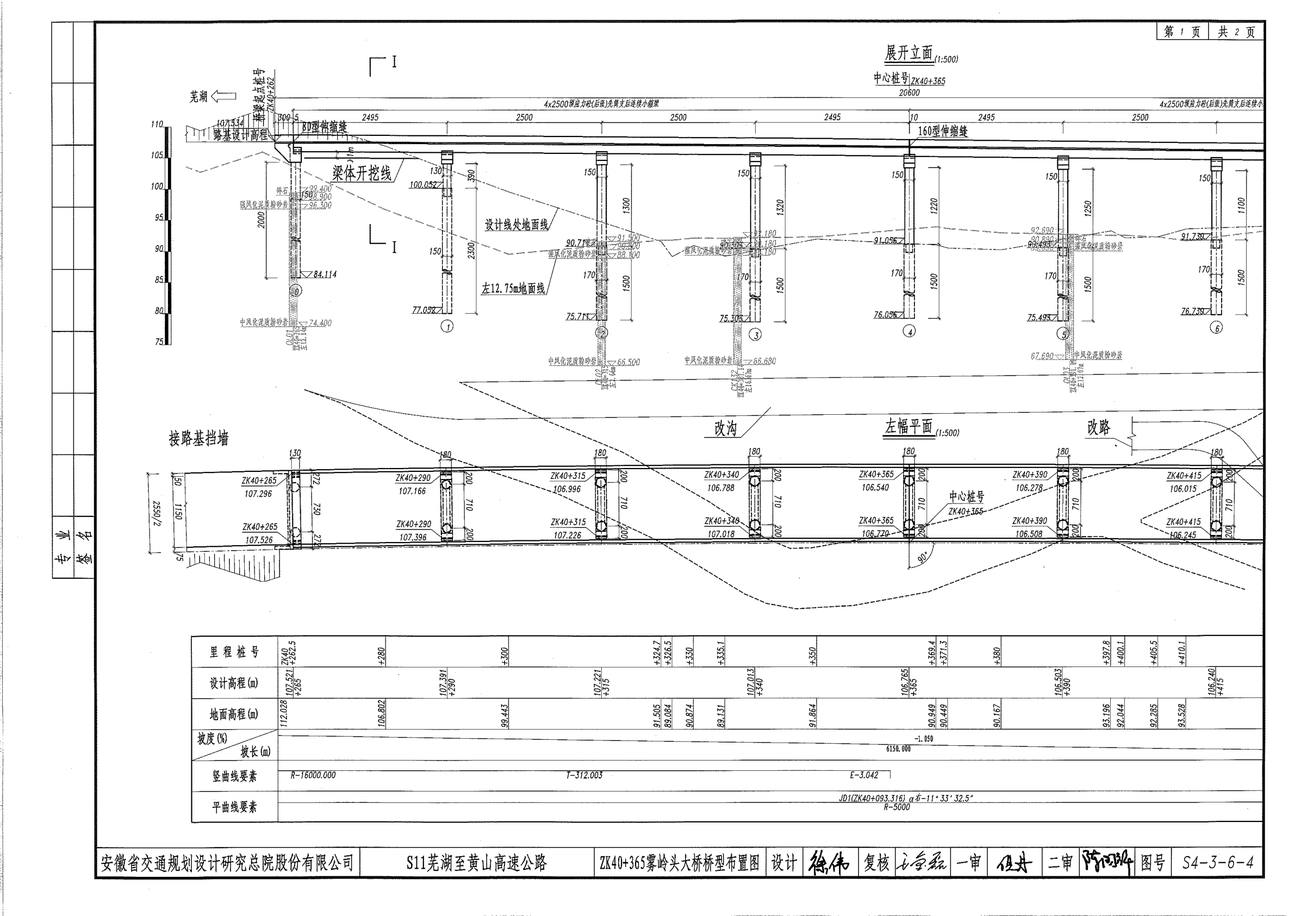A: (145, 41, 1280, 353)
